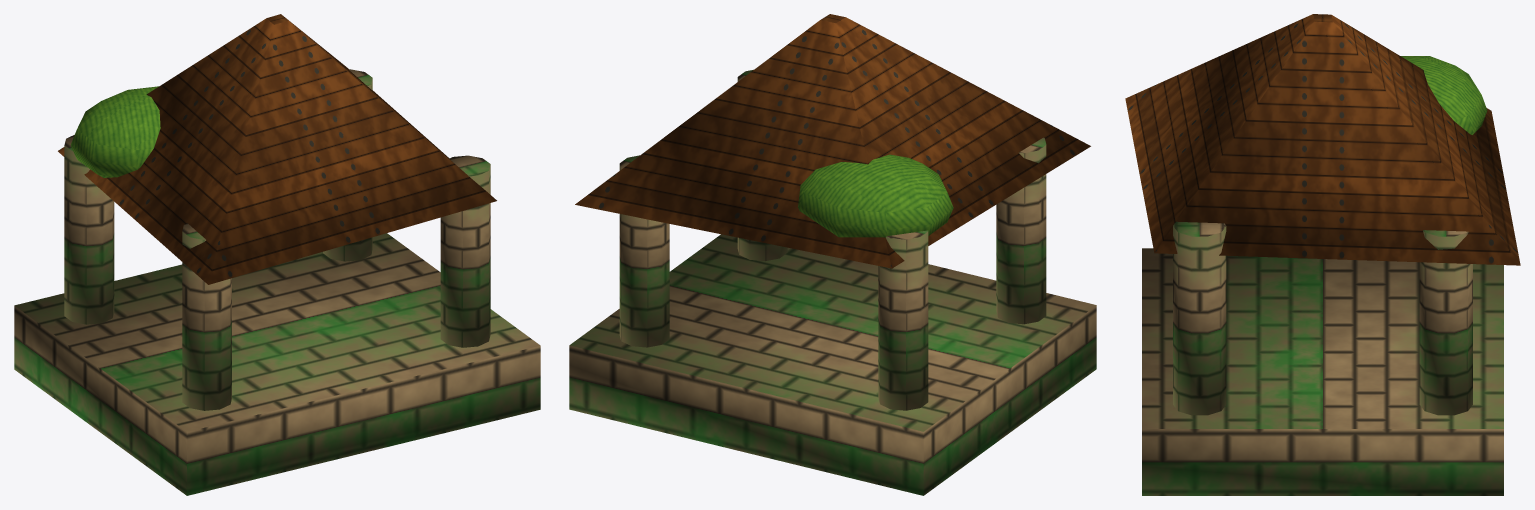
The model's file is prop_jungle_ruin.glb.
The picture shows the model from 3 angles, left to right: view 1: azimuth 30°, elevation 25°; view 2: azimuth 150°, elevation 25°; view 3: azimuth 270°, elevation 25°; orthographic projection. The views are drawn at different scales.
Parts seen in each view (by area): view 1: Plinth; view 2: Plinth; view 3: Plinth.
Part boxes in pixels (<box>): Plinth: <box>14,14,540,495</box>; Plinth: <box>569,14,1096,495</box>; Plinth: <box>1125,14,1520,495</box>.
Size of the model in its own units: 10.4 by 10.4 by 9.62.
Materials: 3 (3 with a texture image).
